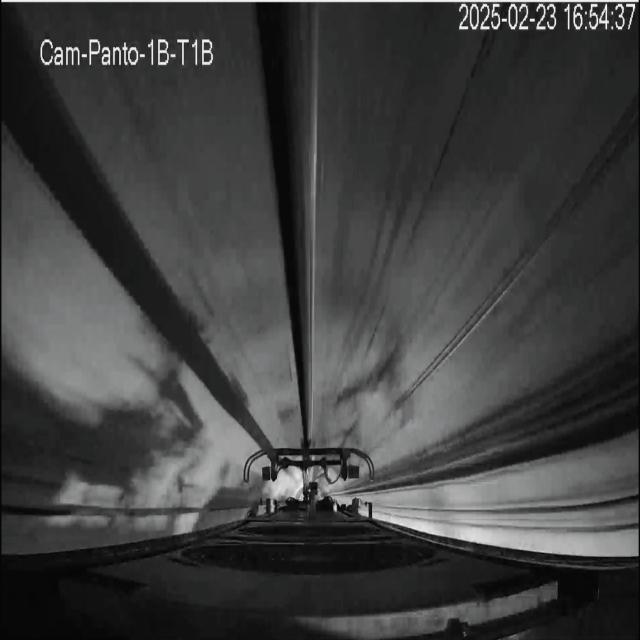Camera Stamp: (36, 29, 220, 70)
Date Stamp: (459, 3, 636, 33)
No - Spark: (246, 447, 375, 511)
